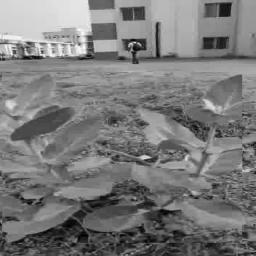Calotropis: (3, 72, 243, 243)
